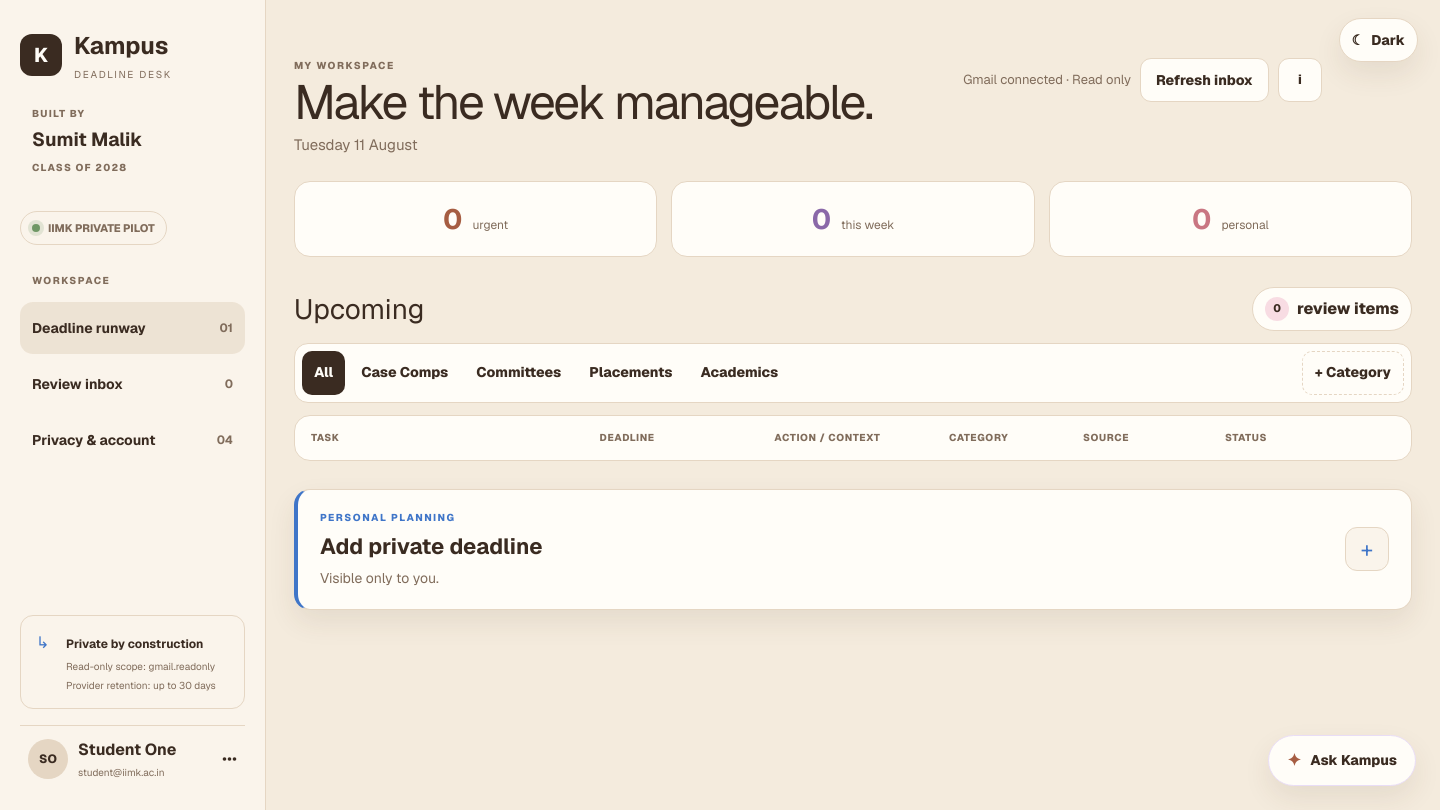
Test: dashboard local actions › continues Gmail batches until Claude has inspected the full window
The image size is (1440, 810).
Click the button "Refresh inbox" at {"x": 1204, "y": 80}, box [1140,58,1269,102]
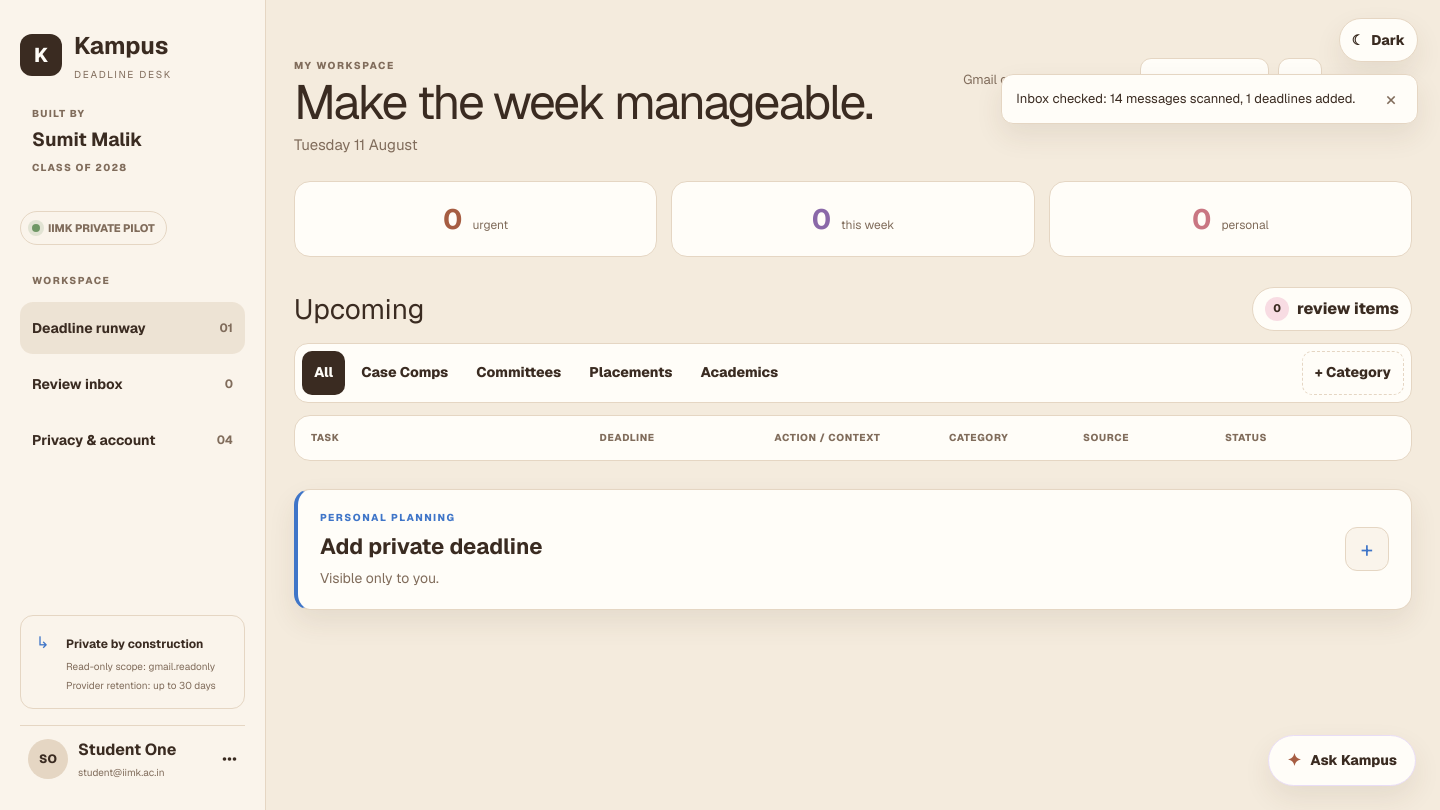
Expected: the message shows "14 messages scanned", [1016,90,1355,107]
